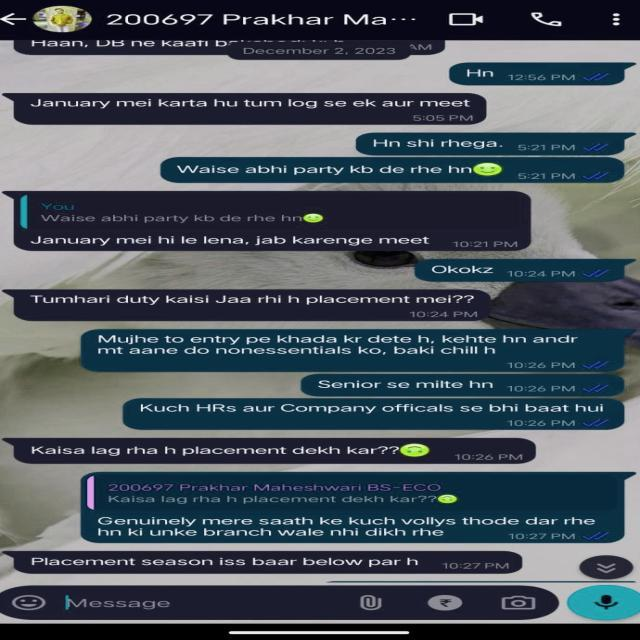scam: (12, 288, 497, 320), (11, 438, 538, 467), (12, 94, 491, 125), (18, 553, 524, 575), (16, 233, 534, 252)
